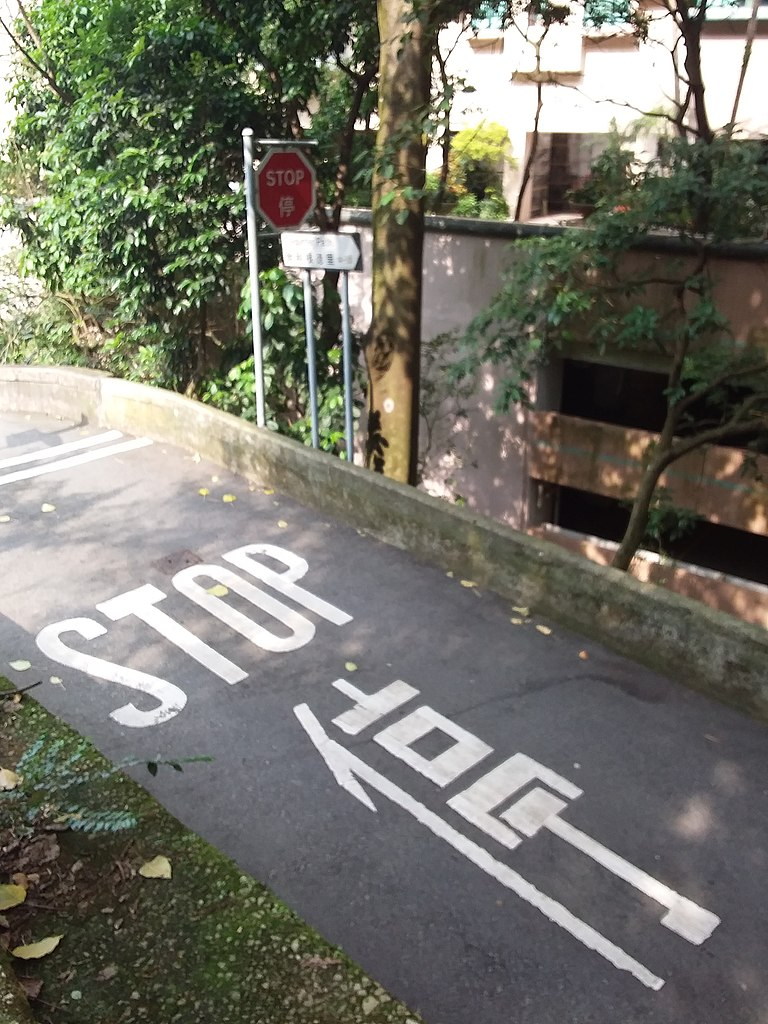Stop: (257, 145, 314, 234)
